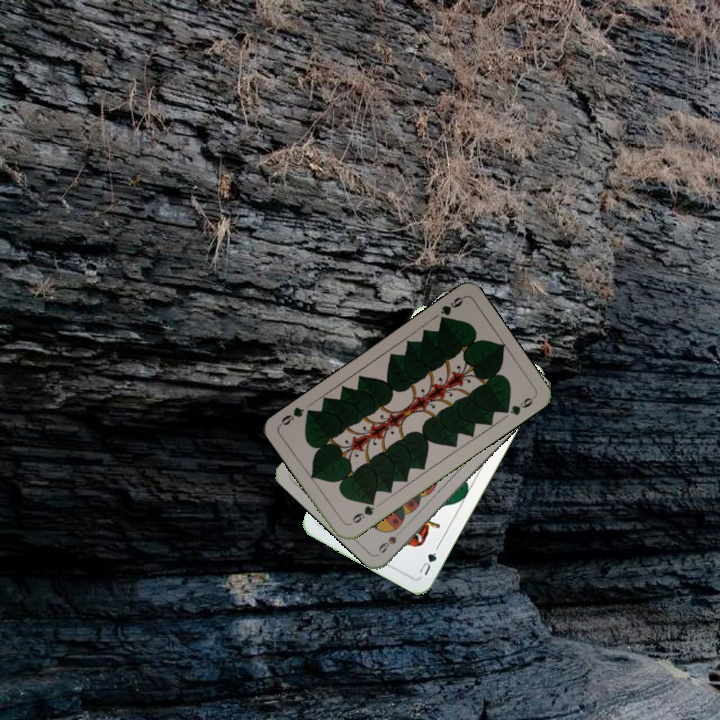G9: (435, 292, 467, 326), (346, 497, 377, 528)
GU: (414, 548, 439, 578)
S9: (374, 532, 399, 556)
